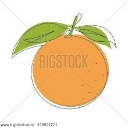orange: (28, 15, 118, 110)
